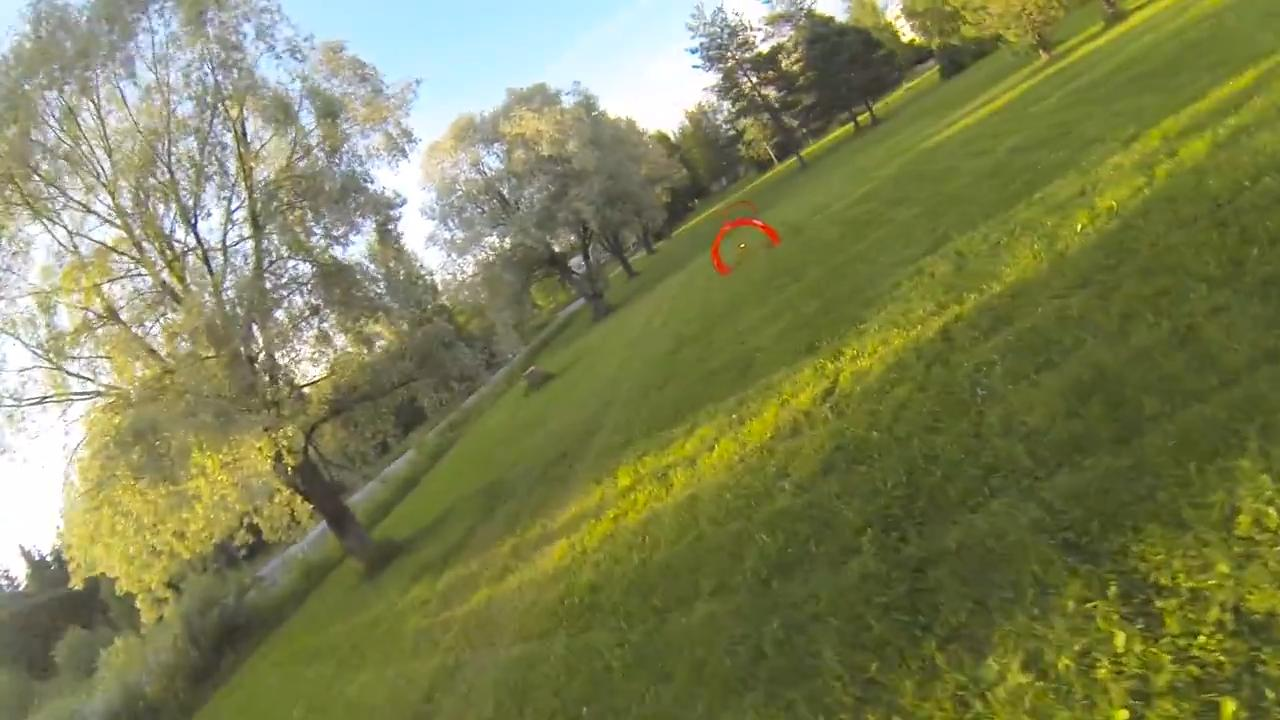gate: (708, 217, 780, 280)
